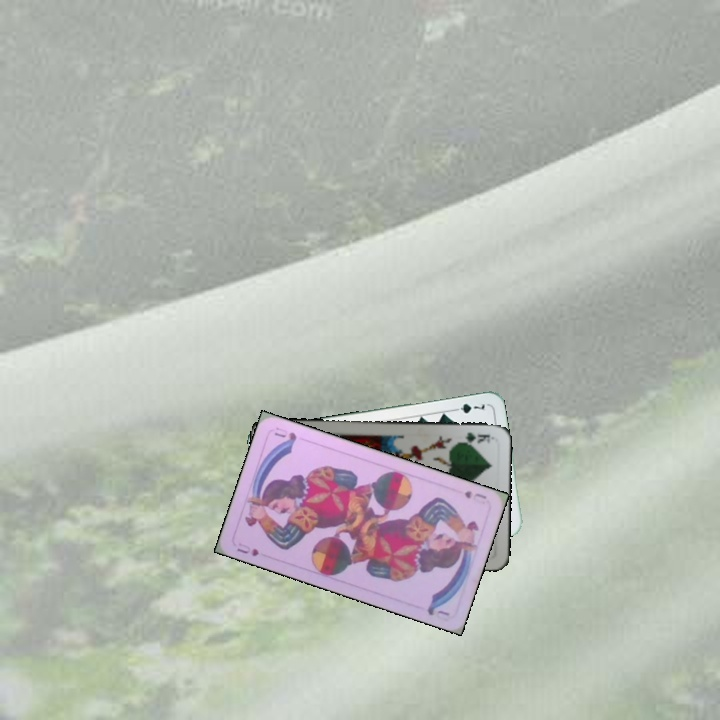G7: (448, 399, 488, 416)
GK: (461, 428, 495, 445)
SU: (233, 538, 261, 559), (460, 486, 489, 504)
